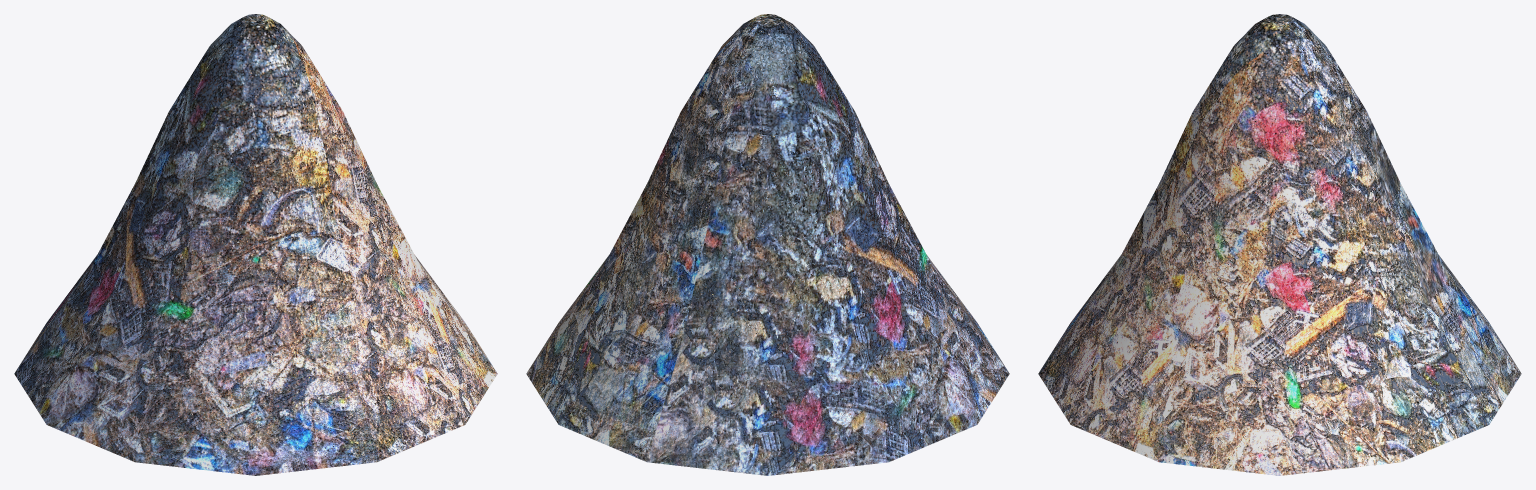
File: Garbage_Variation-1.fbx
3 renders of one model, left to right at view 1: azimuth 30°, elevation 25°; view 2: azimuth 150°, elevation 25°; view 3: azimuth 270°, elevation 25°, orthographic.
Visible parts, largest first — view 1: Circle.001; view 2: Circle.001; view 3: Circle.001.
Part boxes in pixels (box(x1,y1,x2,y2)): Circle.001: box(14, 14, 497, 475); Circle.001: box(526, 14, 1009, 475); Circle.001: box(1038, 14, 1521, 475).
Size of the model in its own units: 11.94 by 9.63 by 11.94.
Materials: 1 (1 with a texture image).
